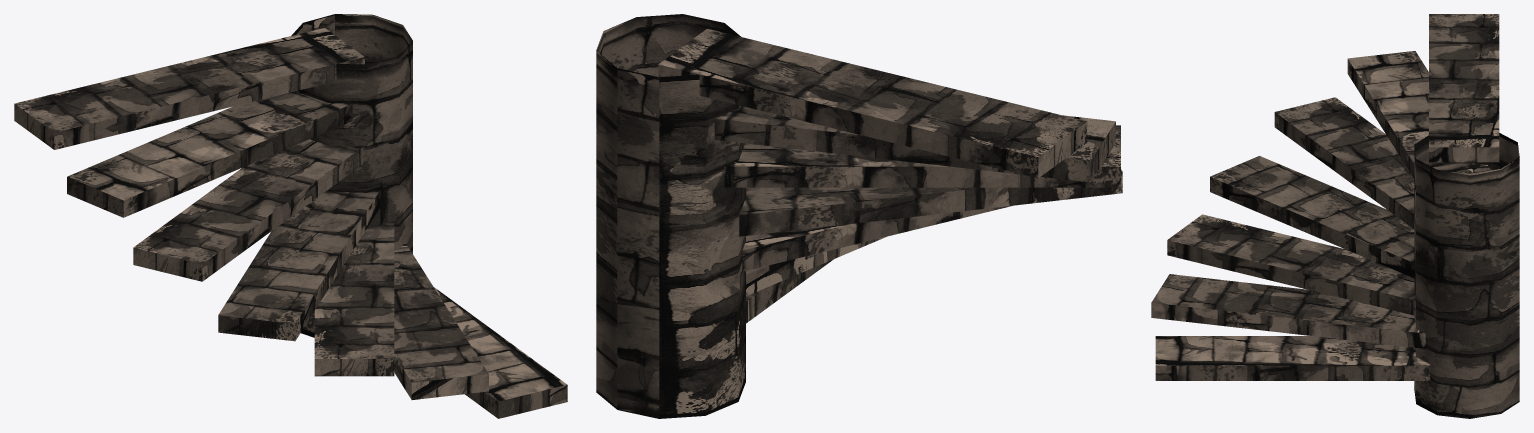
File: SpiralStair.fbx
3 views of the same model, side by side, from view 1: azimuth 30°, elevation 25°; view 2: azimuth 150°, elevation 25°; view 3: azimuth 270°, elevation 25° (orthographic). The views are drawn at different scales.
Parts seen in each view (by area): view 1: SpiralStair02; view 2: SpiralStair02; view 3: SpiralStair02.
Part boxes in pixels (x1,y1,x2,y2): SpiralStair02: (14,14,567,418); SpiralStair02: (596,14,1122,418); SpiralStair02: (1151,14,1519,418).
Bounding box in the file's own units: 3.92 × 2.81 × 3.82.
